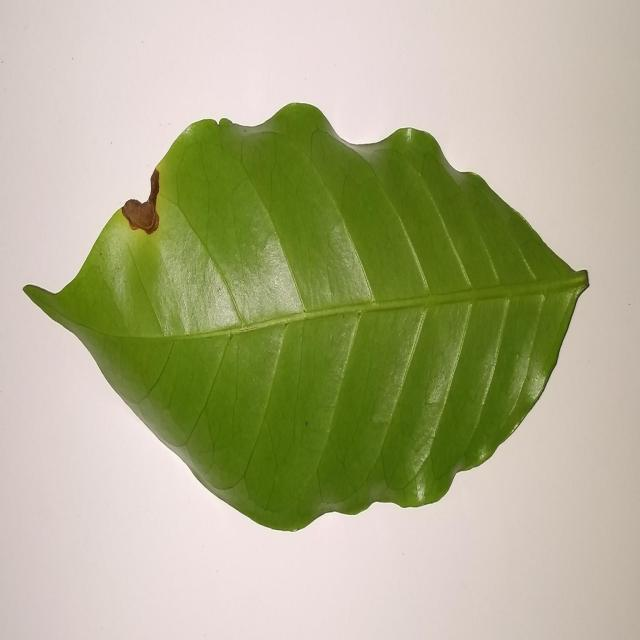phoma: (121, 168, 159, 234)
